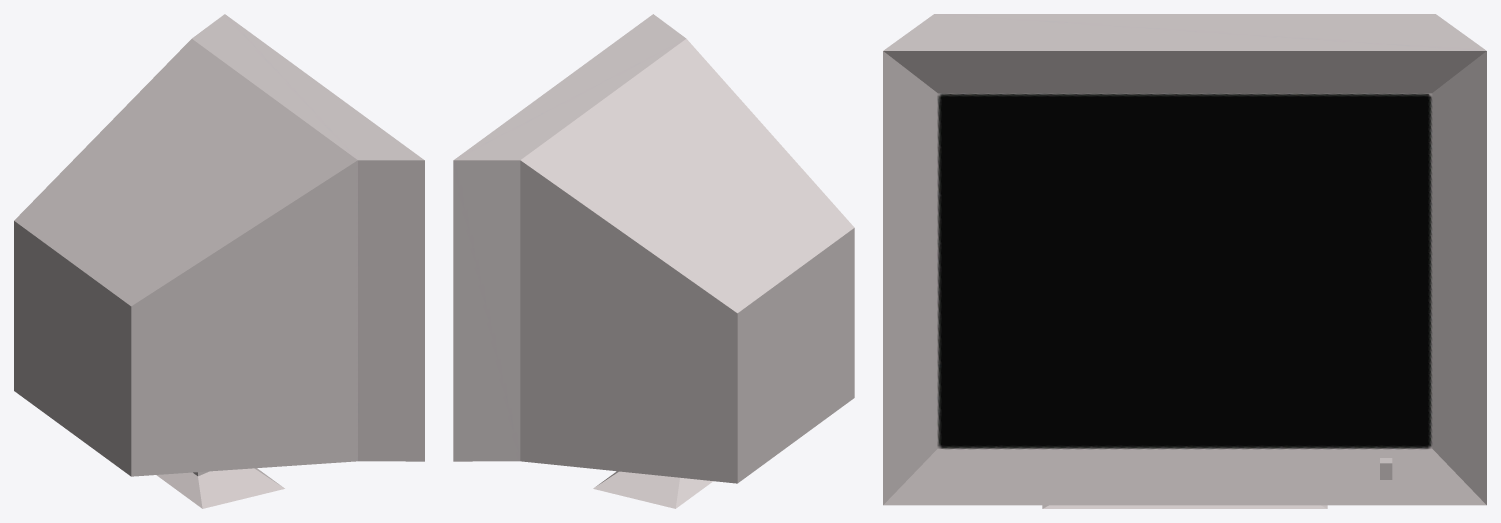
The model's file is monitor.fbx.
The picture shows the model from 3 angles, left to right: view 1: azimuth 30°, elevation 25°; view 2: azimuth 150°, elevation 25°; view 3: azimuth 270°, elevation 25°; orthographic projection. The views are drawn at different scales.
Parts seen in each view (by area): view 1: node_id6; view 2: node_id6; view 3: node_id6.
Boxes of the visible parts, box(x1,y1,x2,y2) form: node_id6: box(14, 14, 424, 508); node_id6: box(453, 14, 854, 508); node_id6: box(883, 14, 1486, 508).
Bounding box in the file's own units: 0.109 × 0.1456 × 0.1526.
1 material, 1 textured.
